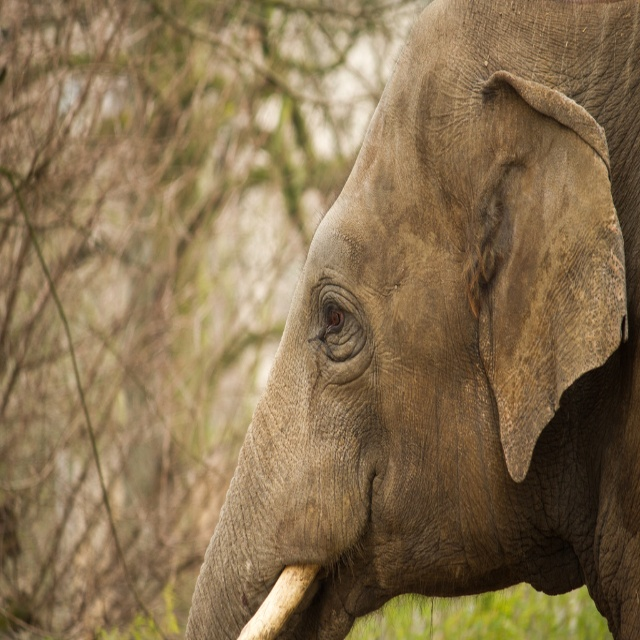Elephant: (182, 0, 640, 639)
